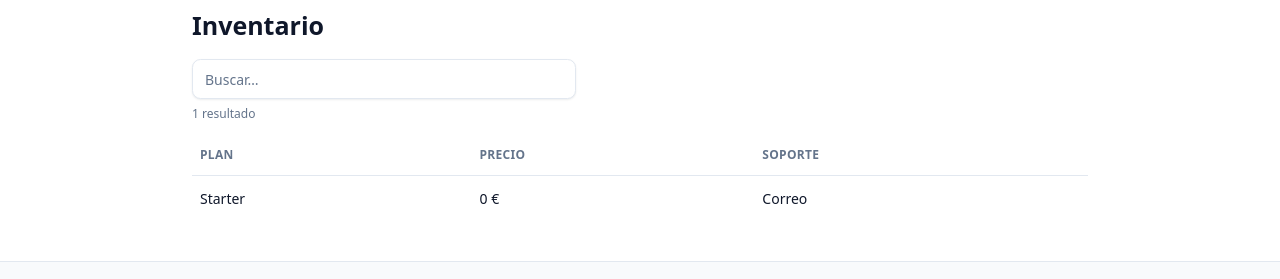
Test: bloque table › muestra «No hay resultados.» sin ocultar la tabla
In the search field named "Buscar en la tabla": [384, 79] box [192,59,576,99], type "zzz"
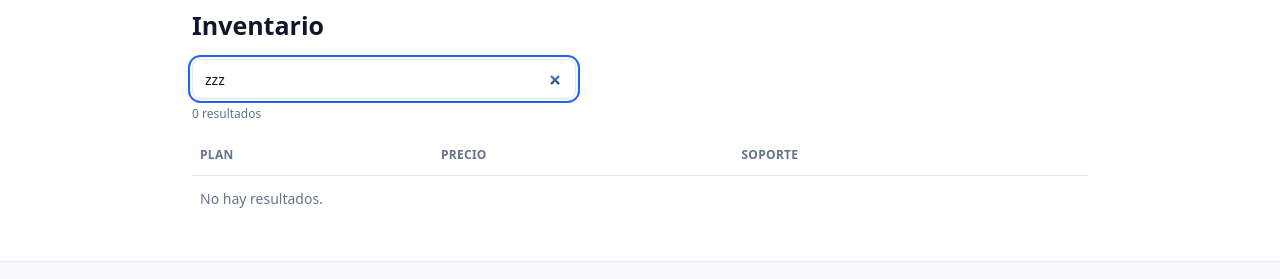
Expected: the table is shown, [192,135,1088,221]
Result: the text "No hay resultados." is shown at [192,176,1088,221]
Result: the cell "Starter" is gone
